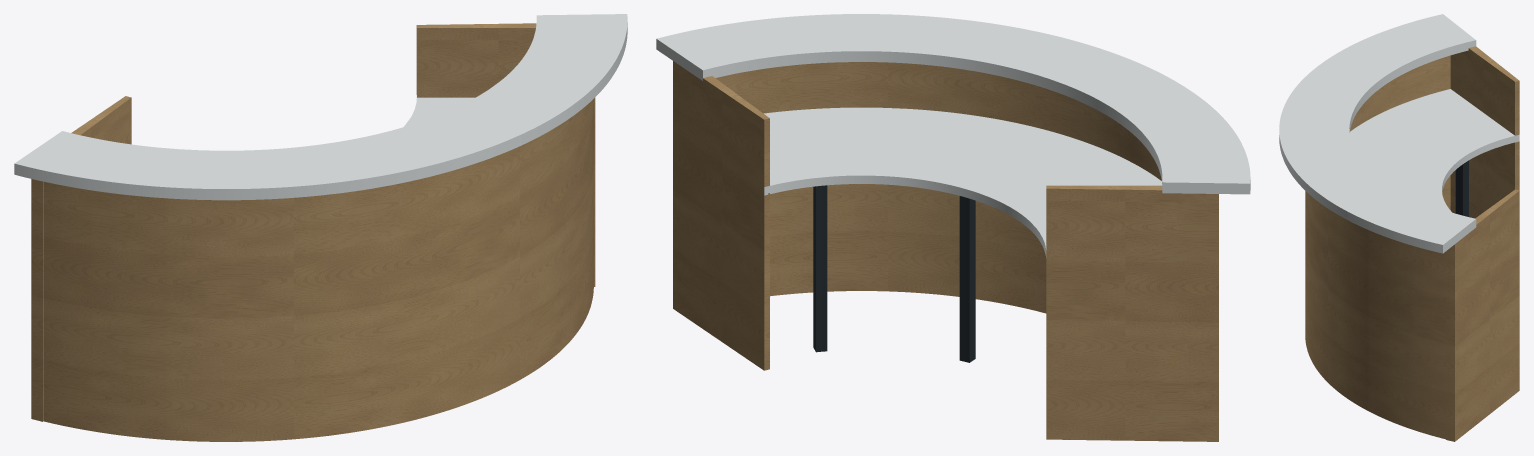
The model's file is reception-desk.glb.
3 renders of one model, left to right at view 1: azimuth 30°, elevation 25°; view 2: azimuth 150°, elevation 25°; view 3: azimuth 270°, elevation 25°, orthographic. The views are drawn at different scales.
Parts seen in each view (by area): view 1: Continuous curved reception fascia, Continuous public transaction top; view 2: Continuous curved reception fascia, Continuous public transaction top, Staff worktop floor post 1; view 3: Continuous curved reception fascia, Continuous public transaction top, Staff worktop floor post 1.
Boxes of the visible parts, bbox=[...] form: Continuous curved reception fascia: bbox=[31, 23, 595, 441]; Continuous public transaction top: bbox=[14, 14, 627, 200]; Continuous curved reception fascia: bbox=[673, 61, 1218, 441]; Continuous public transaction top: bbox=[656, 14, 1250, 257]; Staff worktop floor post 1: bbox=[813, 185, 975, 362]; Continuous curved reception fascia: bbox=[1305, 46, 1519, 441]; Continuous public transaction top: bbox=[1279, 14, 1519, 253]; Staff worktop floor post 1: bbox=[1455, 160, 1468, 216].
Bounding box in the file's own units: 2.6 × 1.08 × 1.14.
3 materials, 3 textured.
